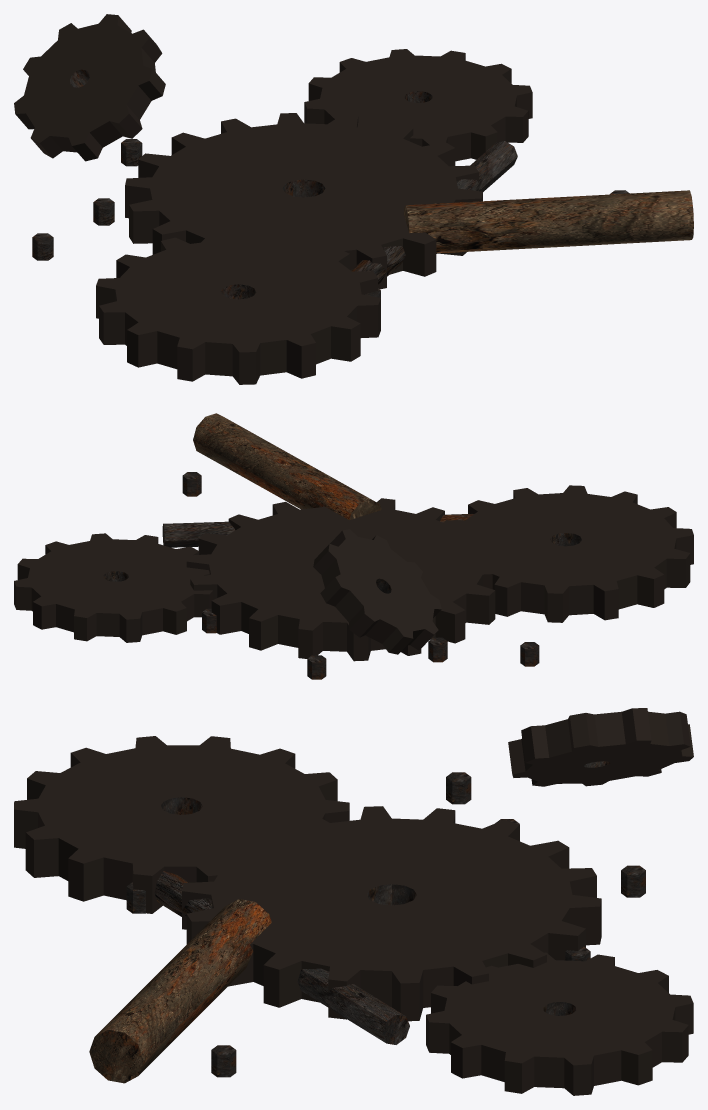
The model's file is mechanical-parts-v01-photo.glb.
The picture shows the model from 3 angles, top to bottom: view 1: azimuth 30°, elevation 25°; view 2: azimuth 150°, elevation 25°; view 3: azimuth 270°, elevation 25°; orthographic projection. The views are drawn at different scales.
Parts seen in each view (by area): view 1: mechanical-parts; view 2: mechanical-parts; view 3: mechanical-parts.
Boxes of the visible parts, x1,y1,x2,y2 form: mechanical-parts: (14,14,693,384); mechanical-parts: (14,413,693,679); mechanical-parts: (14,708,693,1095).
Bounding box in the file's own units: 1.81 × 0.4652 × 1.62.
2 materials, 2 textured.
